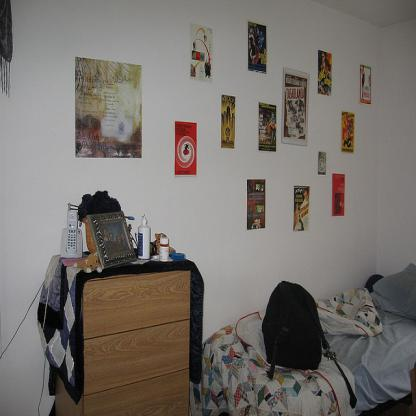backpack: (261, 279, 358, 409)
